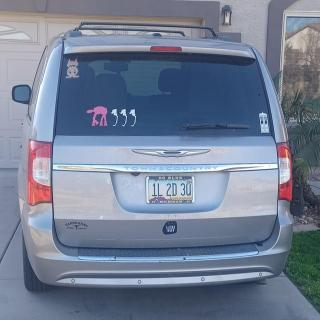license: (147, 177, 196, 205)
